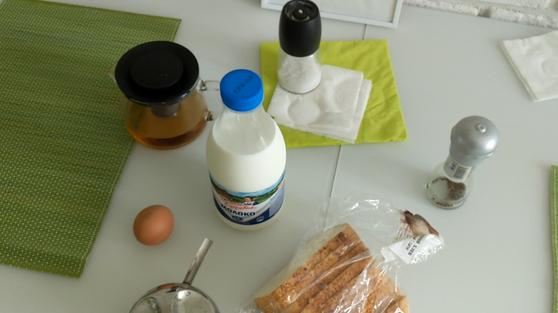egg: (133, 204, 174, 245)
white_bread: (257, 226, 348, 298)
